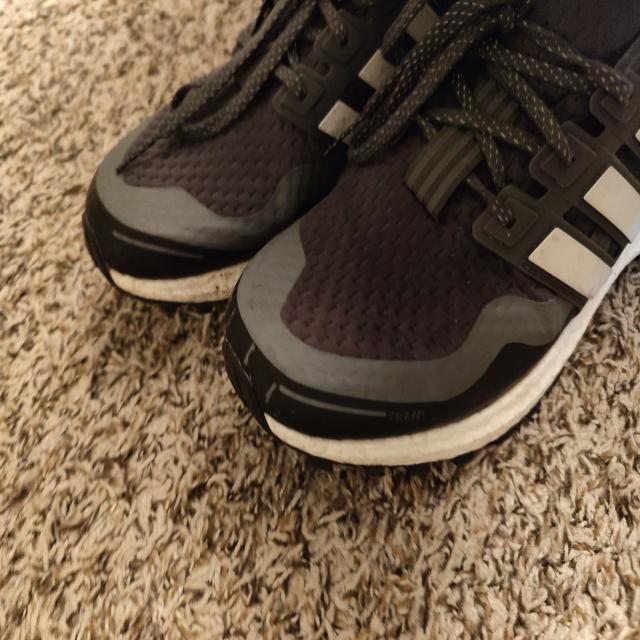black shoes: (114, 0, 640, 395)
